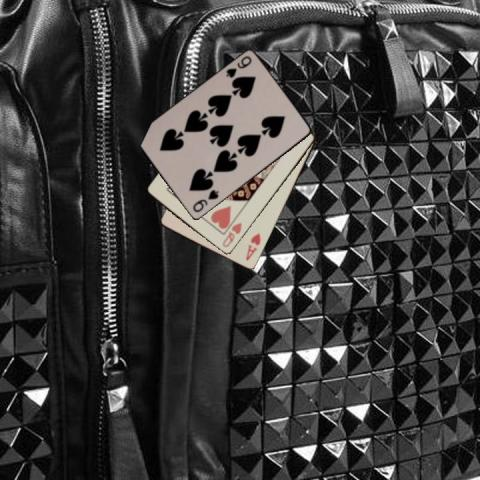9s: (189, 187, 220, 214), (223, 53, 253, 79)
Ah: (243, 230, 262, 262)
Qh: (220, 220, 244, 249)
